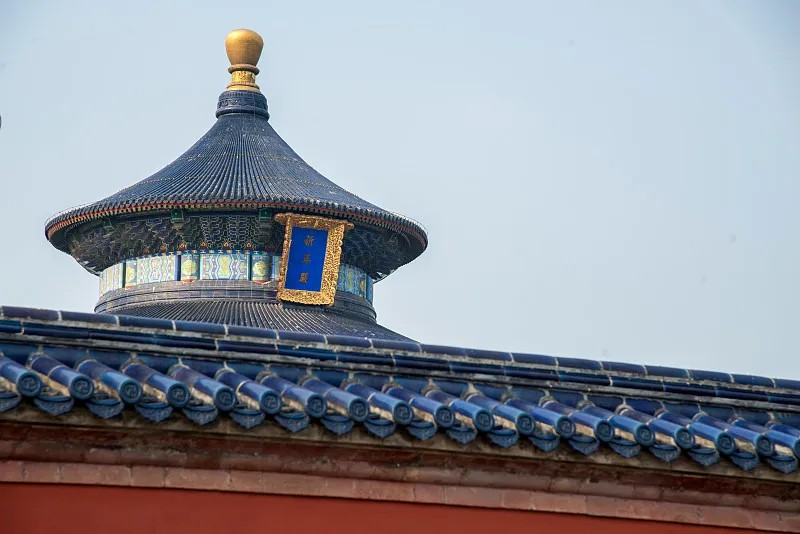Heaven: (44, 28, 428, 348)
